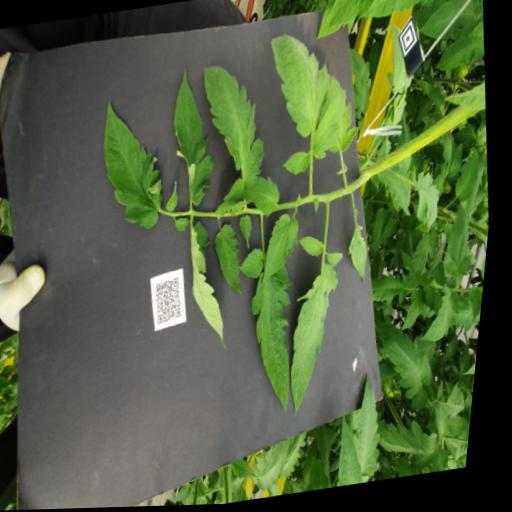Healthy: (260, 25, 356, 181), (281, 264, 361, 419), (194, 60, 278, 206), (94, 92, 177, 236), (245, 270, 312, 419), (162, 66, 229, 211), (184, 219, 243, 357), (374, 313, 447, 419), (381, 412, 462, 483), (350, 373, 397, 482), (260, 213, 309, 286), (441, 204, 485, 282), (414, 0, 487, 47), (212, 223, 253, 301), (338, 413, 378, 490), (430, 29, 489, 76), (420, 288, 464, 347), (257, 440, 305, 494), (345, 48, 380, 122), (412, 171, 449, 238), (319, 0, 398, 30), (241, 175, 287, 222), (359, 0, 453, 22), (373, 271, 418, 312), (453, 151, 485, 206), (372, 209, 395, 258), (240, 248, 271, 283), (301, 236, 330, 262), (238, 457, 267, 483), (240, 217, 260, 252), (166, 182, 184, 213), (384, 220, 405, 242), (181, 485, 203, 503), (330, 253, 349, 270), (177, 218, 196, 234)
